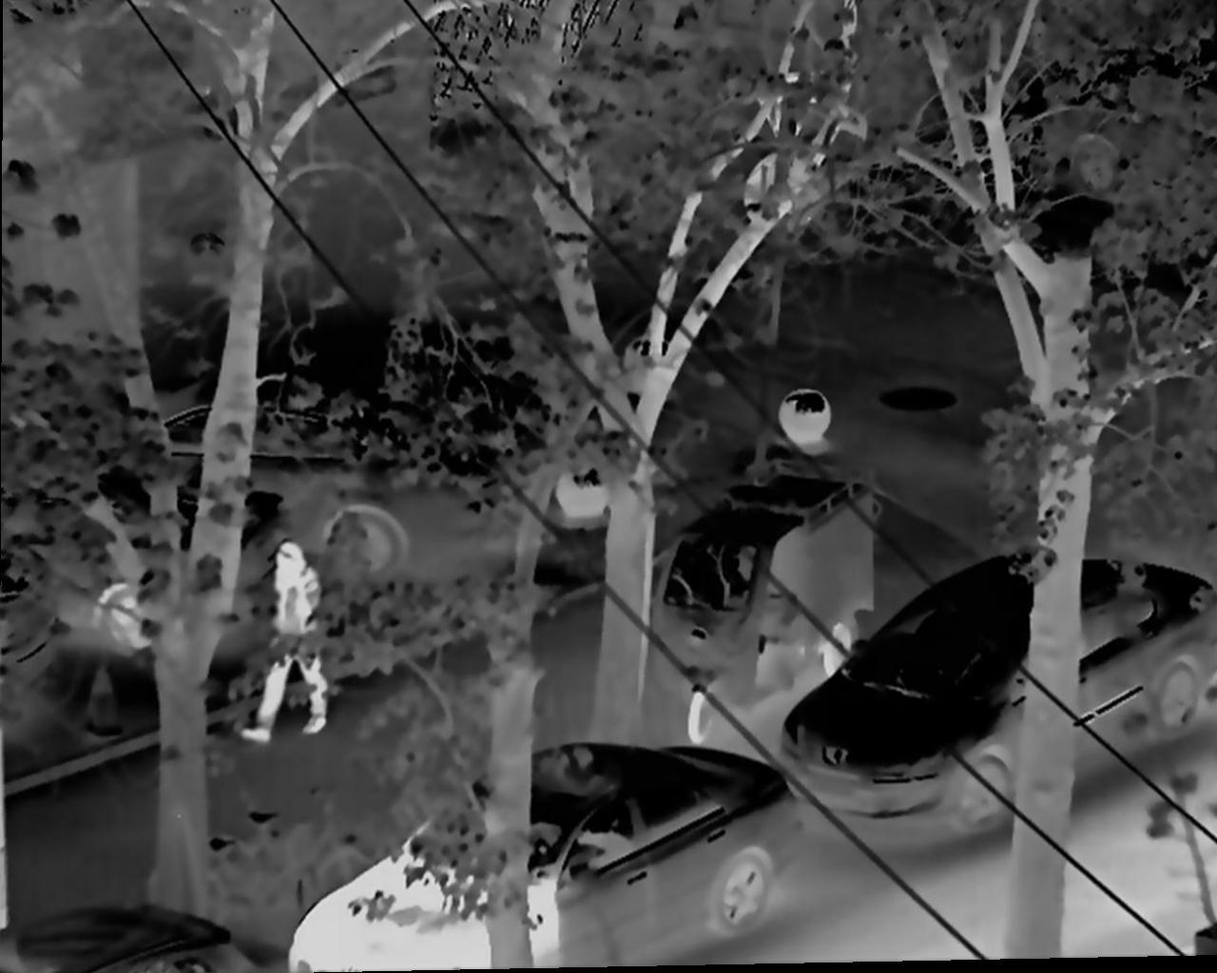person: (250, 537, 334, 742)
